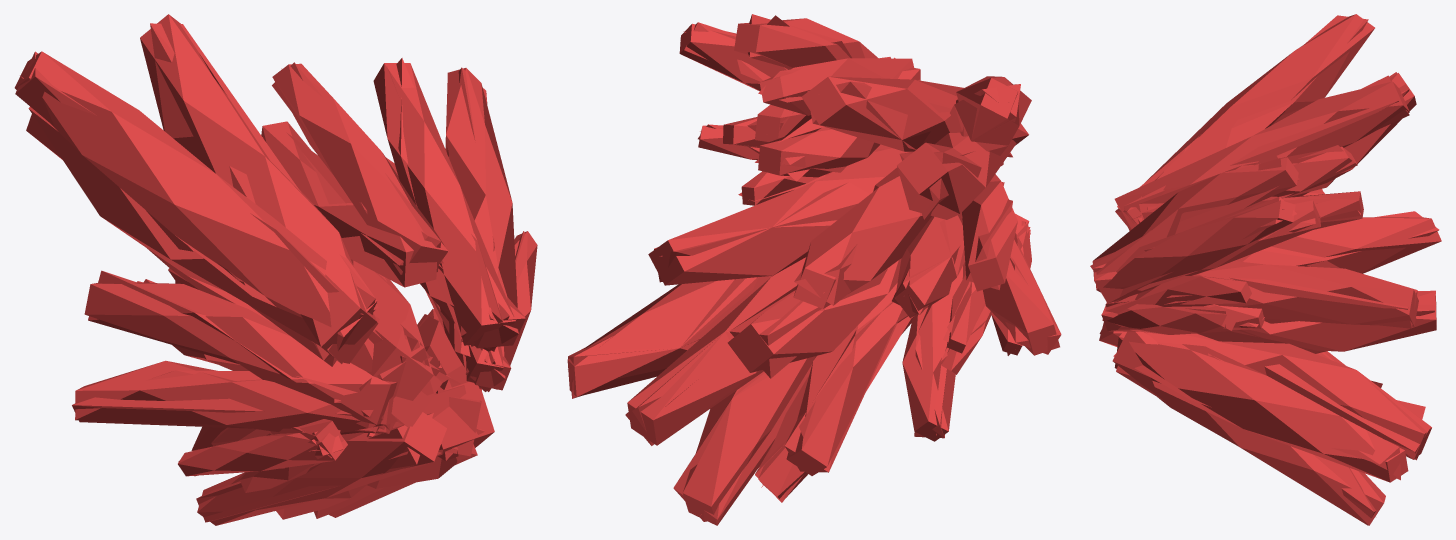
Rendered from Coral1.fbx.
The picture shows the model from 3 angles, left to right: view 1: azimuth 30°, elevation 25°; view 2: azimuth 150°, elevation 25°; view 3: azimuth 270°, elevation 25°; orthographic projection. The views are drawn at different scales.
Parts seen in each view (by area): view 1: Coral1Near, Coral1Middle, Coral1Far; view 2: Coral1Near, Coral1Middle, Coral1Far; view 3: Coral1Near, Coral1Middle, Coral1Far.
Part boxes in pixels (x1,y1,x2,y2): Coral1Near: (14,14,537,525); Coral1Middle: (15,23,525,522); Coral1Far: (20,68,482,460); Coral1Near: (567,18,1059,525); Coral1Middle: (568,14,1061,521); Coral1Far: (569,15,1030,515); Coral1Near: (1092,14,1441,525); Coral1Middle: (1090,15,1439,525); Coral1Far: (1132,151,1425,460).
Bounding box in the file's own units: 524 × 585 × 463.
